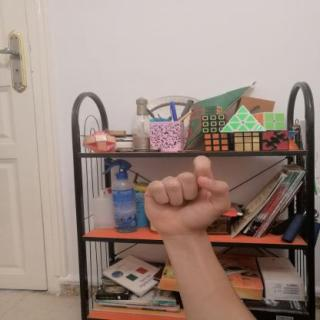FAA: (130, 147, 242, 243)
